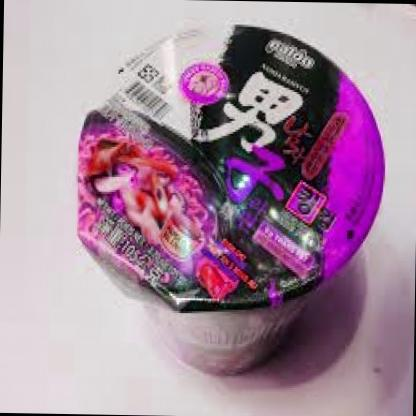Ramen: (71, 30, 380, 378)
